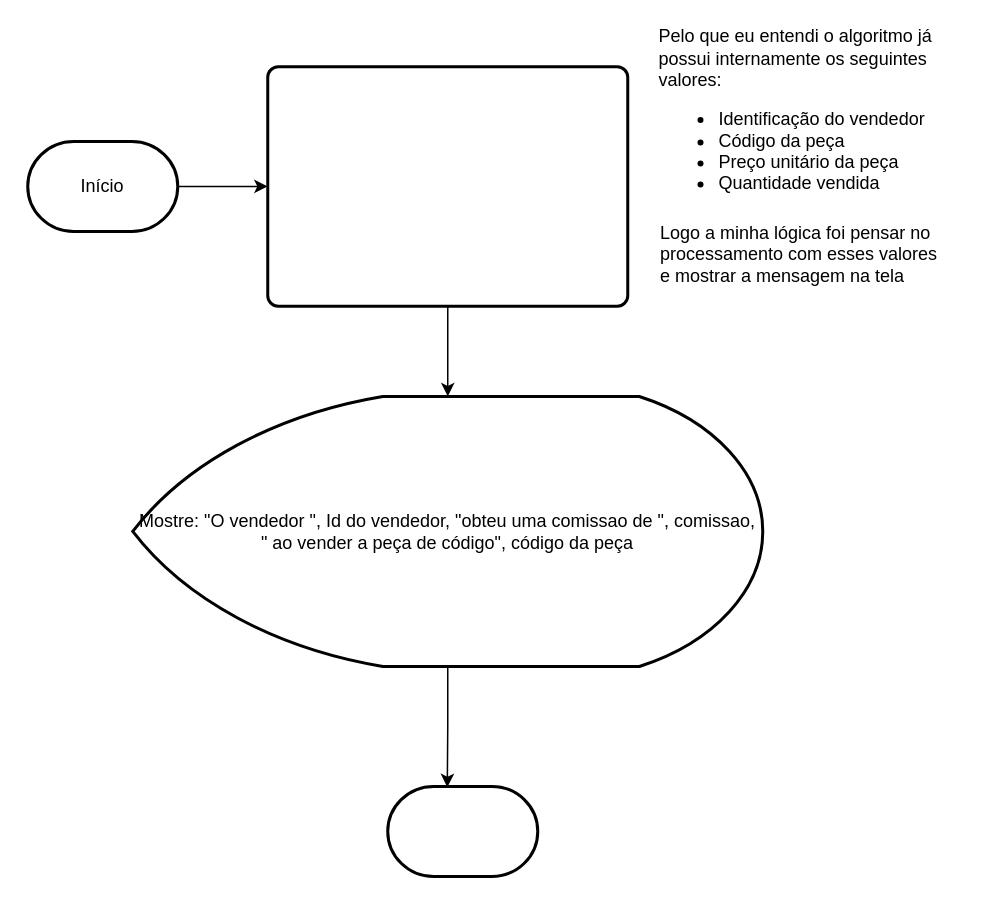
Some shapes in this 998 by 905 pixel diagram are drawn without their labels. The shapes that lost their labels are listed below. From the top down, each one's box as (x1, y1, x2, y2) in pixels, then its label:
(266, 64, 628, 307): comissao = quantidade * preço unitário * 0,05
(386, 784, 538, 877): Fim
